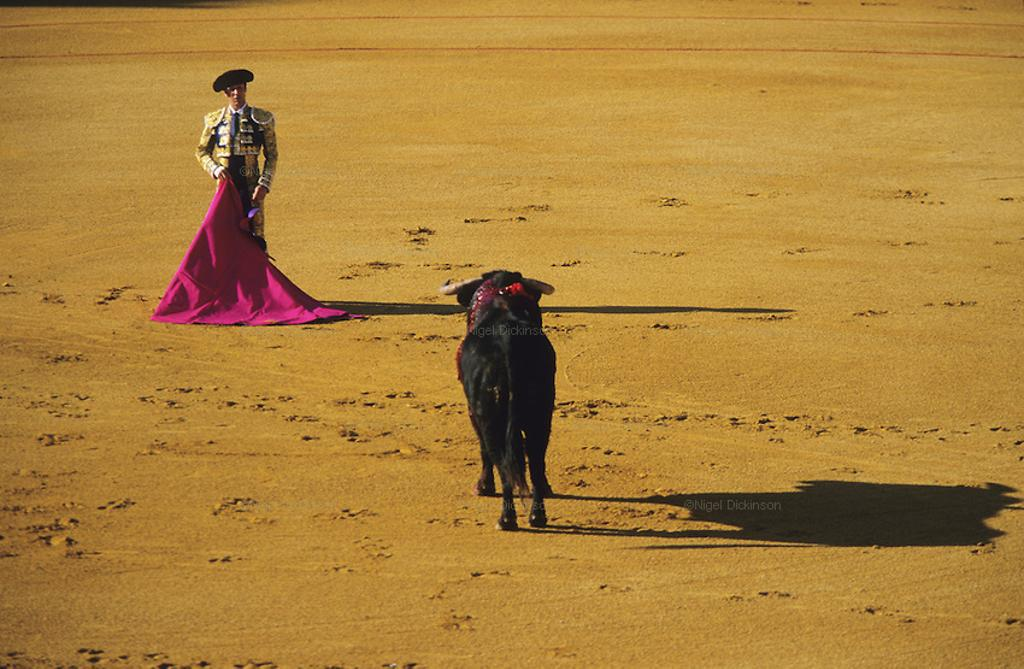face: (226, 84, 245, 110)
